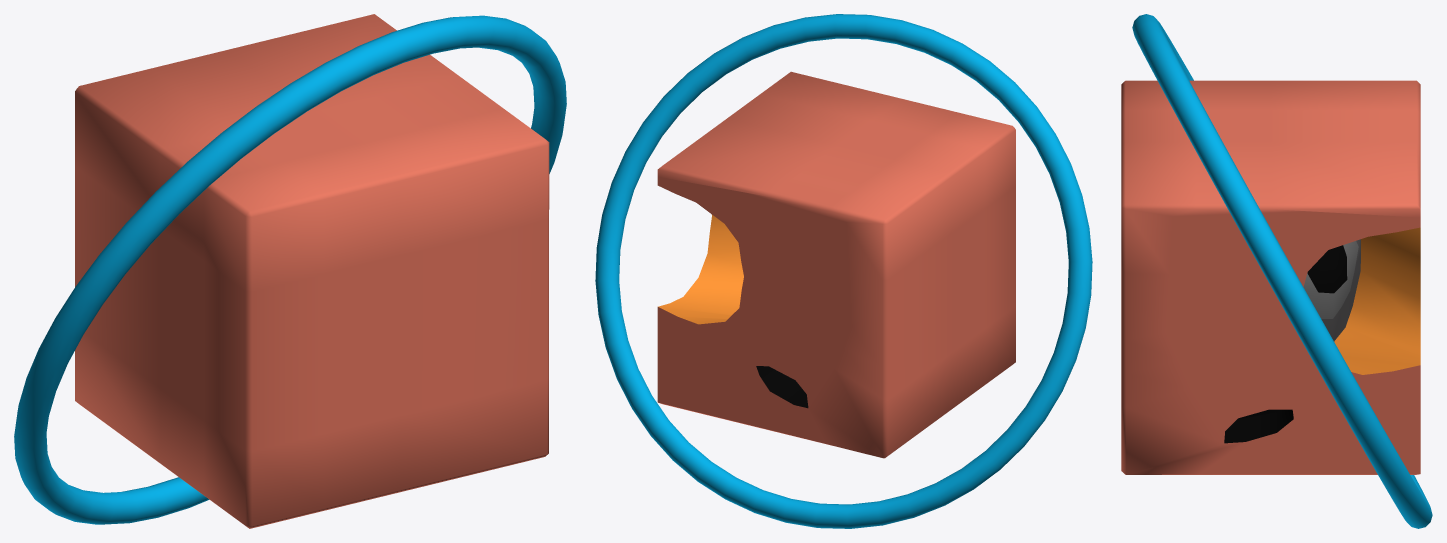
File: Floating_Speaker_1.fbx
3 renders of one model, left to right at view 1: azimuth 30°, elevation 25°; view 2: azimuth 150°, elevation 25°; view 3: azimuth 270°, elevation 25°, orthographic. The views are drawn at different scales.
Visible parts, largest first — view 1: Cube.001, Torus; view 2: Cube.001, Torus; view 3: Cube.001, Torus.
Boxes of the visible parts, x1,y1,x2,y2 form: Cube.001: [75, 14, 549, 528]; Torus: [14, 15, 566, 524]; Cube.001: [657, 71, 1015, 458]; Torus: [595, 14, 1092, 528]; Cube.001: [1121, 80, 1420, 474]; Torus: [1132, 14, 1432, 528].
Bounding box in the file's own units: 384 × 352 × 208.
